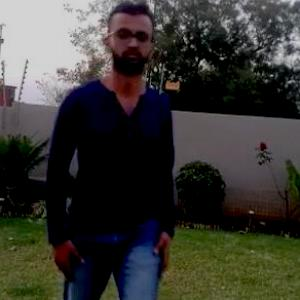follow: (58, 4, 172, 299)
